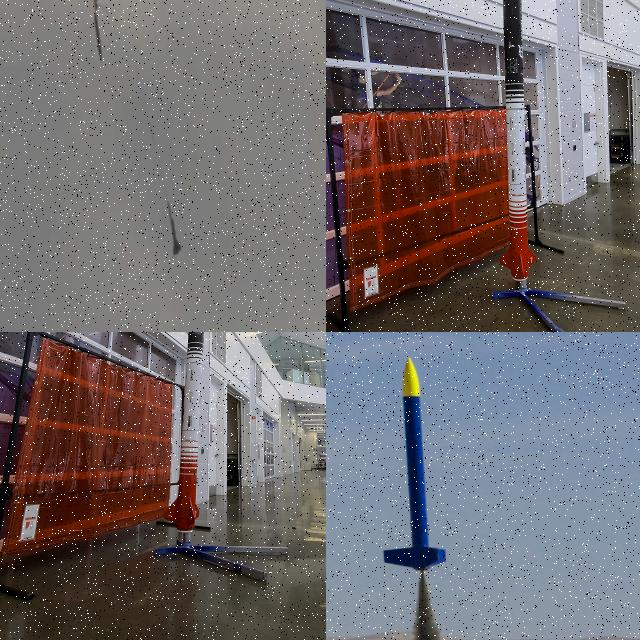Rocket: (383, 356, 448, 572), (499, 0, 536, 279), (164, 332, 205, 531), (170, 217, 182, 255)
